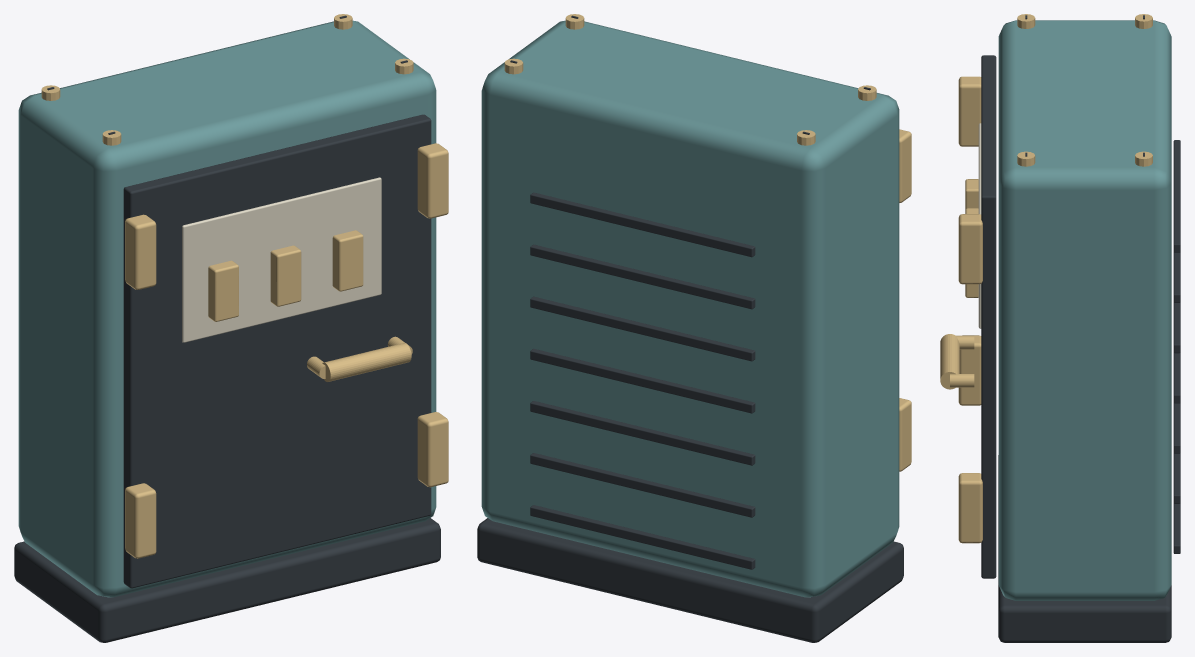
File: abandoned-cinema-and-projection-booth-abandoned-cinema-3e9bcd8d__29718.glb
The picture shows the model from 3 angles, left to right: view 1: azimuth 30°, elevation 25°; view 2: azimuth 150°, elevation 25°; view 3: azimuth 270°, elevation 25°; orthographic projection. The views are drawn at different scales.
Parts seen in each view (by area): view 1: abandoned-cinema-and-projection-booth-fuse-cabinet; view 2: abandoned-cinema-and-projection-booth-fuse-cabinet; view 3: abandoned-cinema-and-projection-booth-fuse-cabinet.
Boxes of the visible parts, left/top/right/bottom form: abandoned-cinema-and-projection-booth-fuse-cabinet: left=14, top=14, right=448, bottom=642; abandoned-cinema-and-projection-booth-fuse-cabinet: left=477, top=14, right=911, bottom=642; abandoned-cinema-and-projection-booth-fuse-cabinet: left=940, top=14, right=1180, bottom=642.
Bounding box in the file's own units: 0.55 × 0.764 × 0.347.
